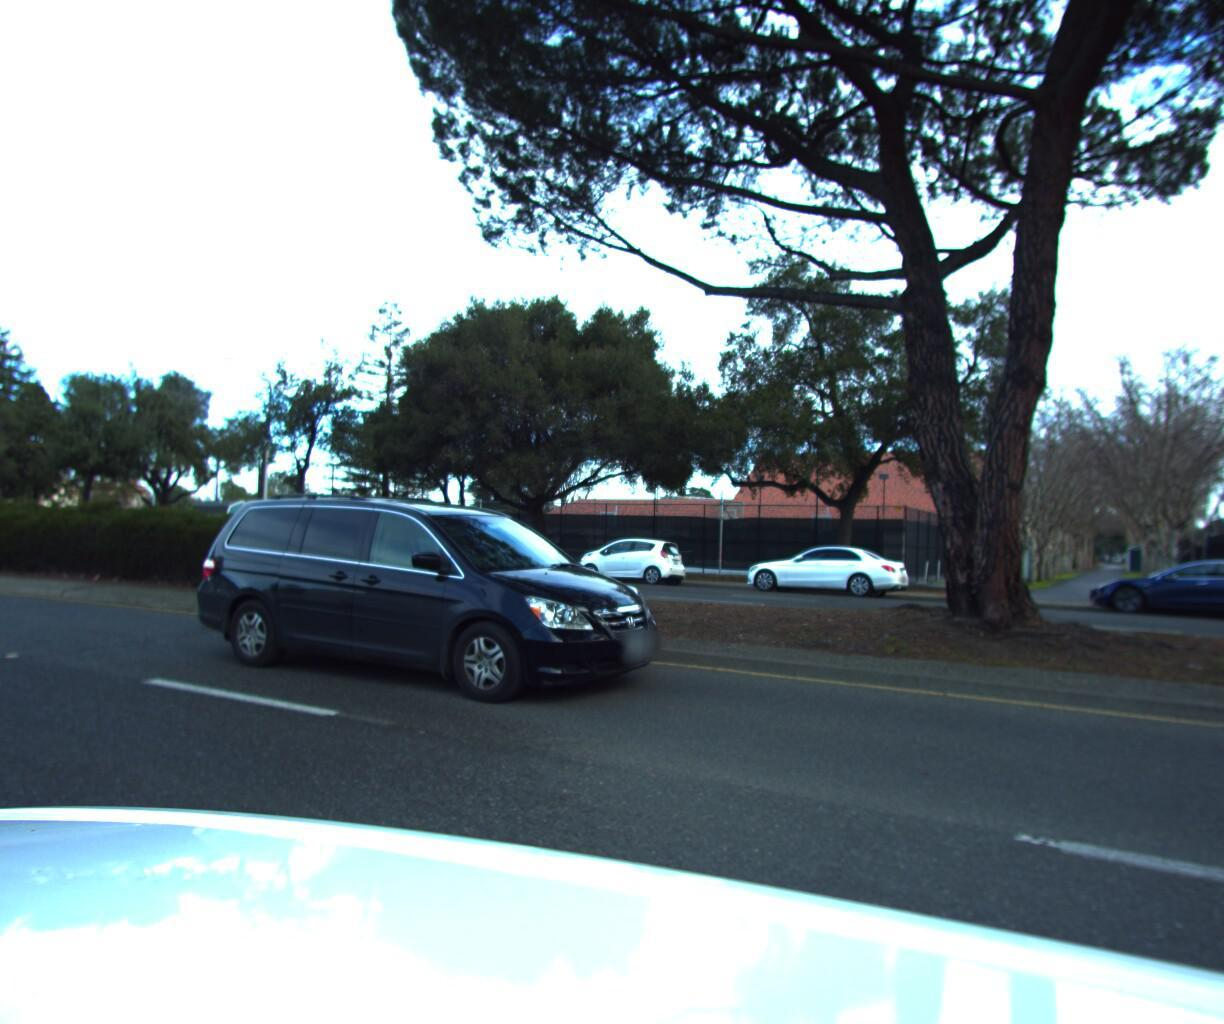car: (180, 484, 694, 719), (1079, 547, 1224, 629), (732, 535, 916, 599), (566, 528, 691, 583)
